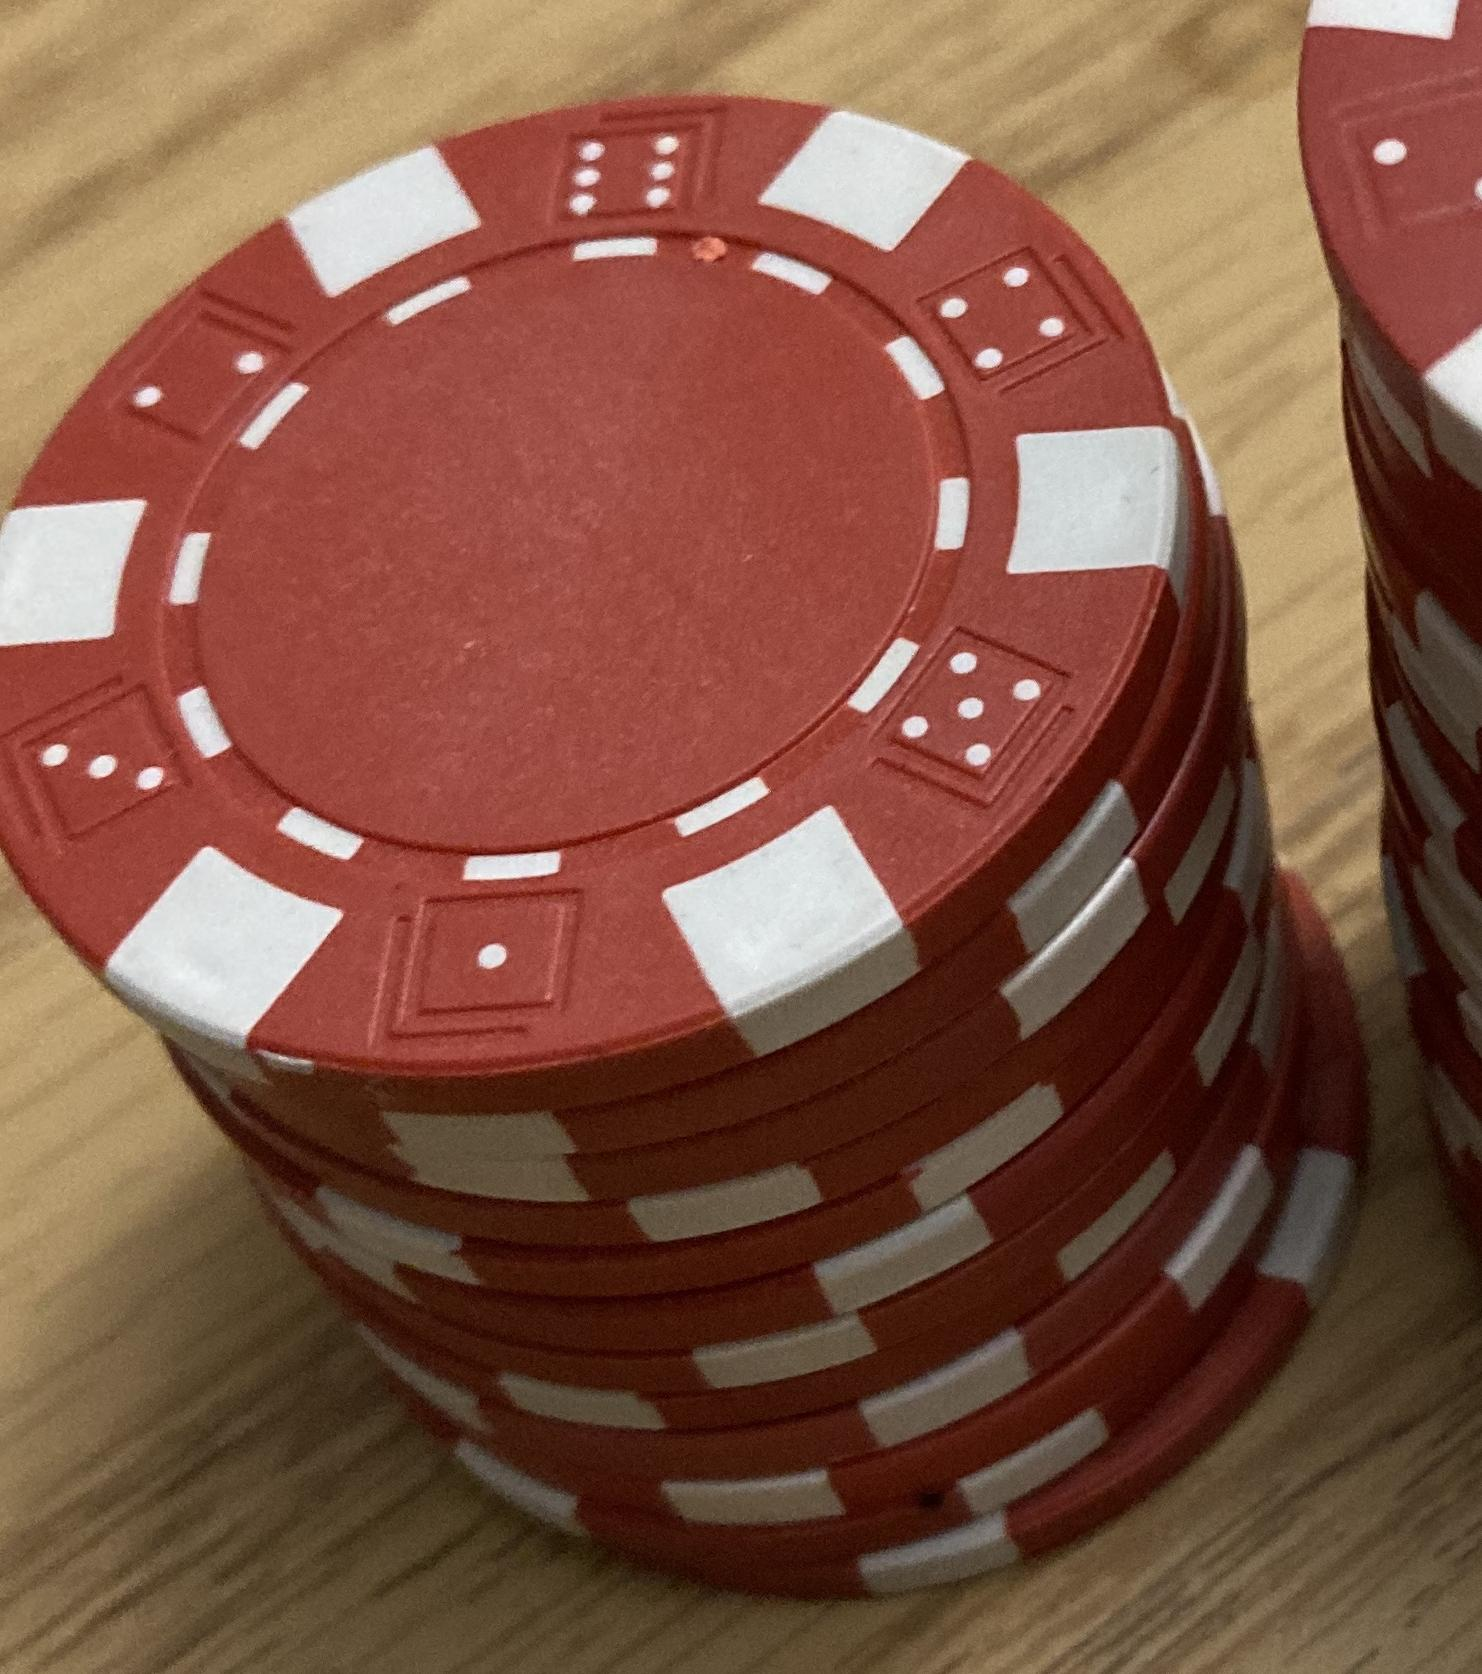Chip: (1, 1, 1482, 1674)
